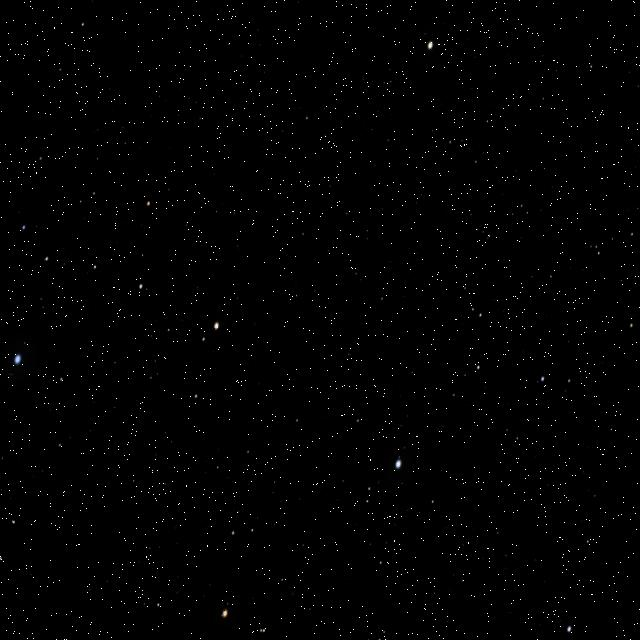Sculptor: (226, 111, 434, 444)
